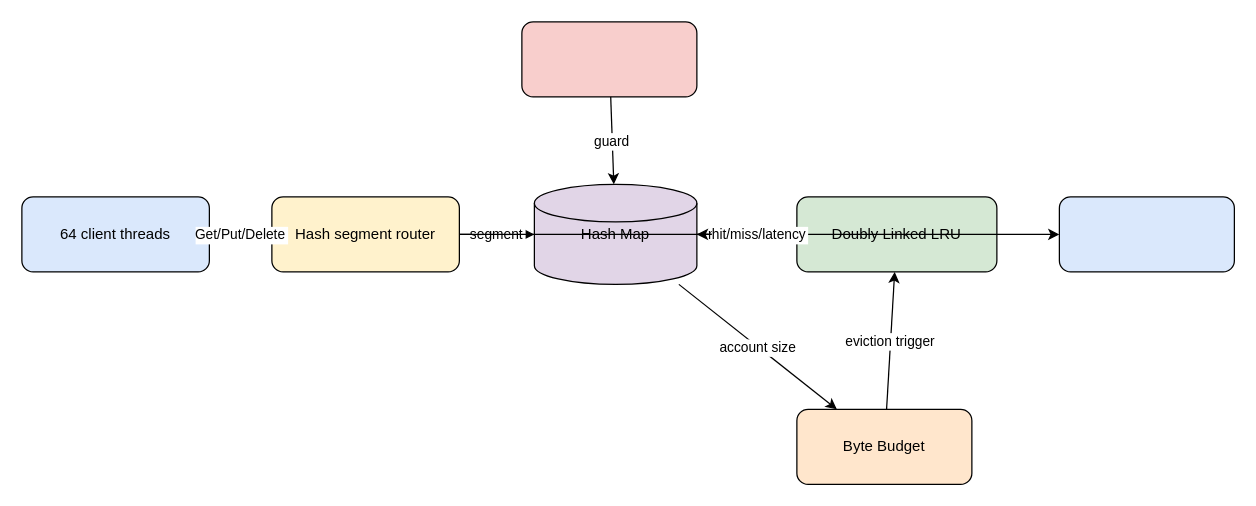
The diagram is 1256 pixels wide and 506 high, and some of its shapes have lost their labels. Here are the shapes that lost their labels. From the top down, the centre of each, then its label:
At (609,59): "Segment mutex".
At (1146,234): "Atomic Metrics".
